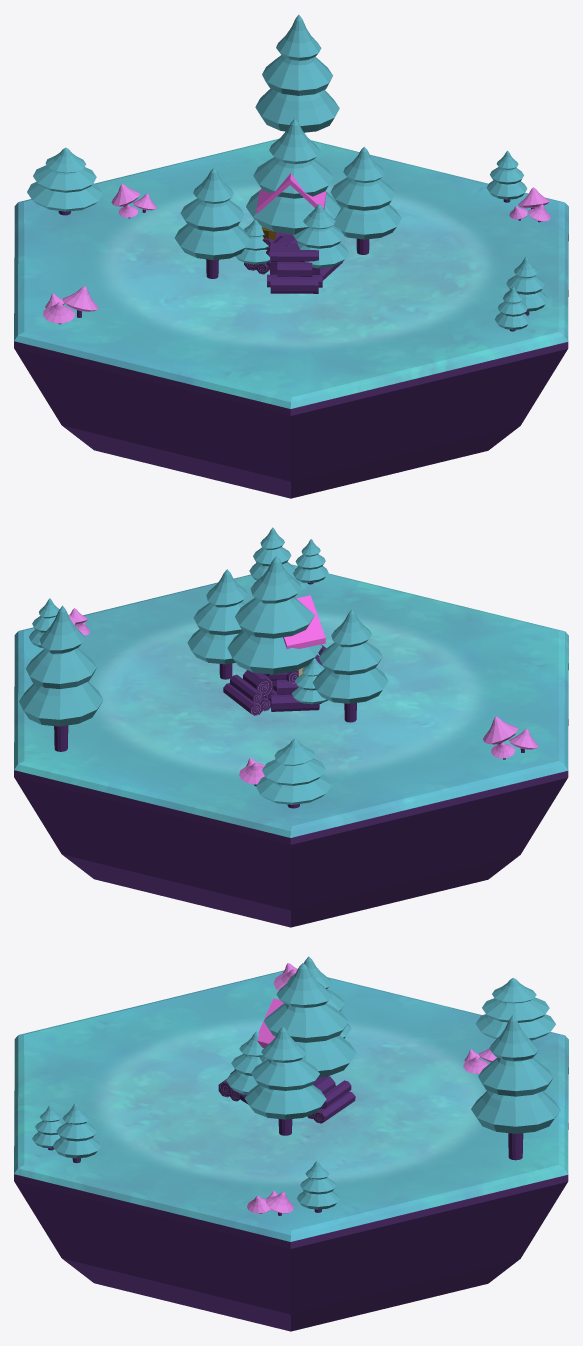
Rendered from Asset_Biome_Forest_01.fbx.
The picture shows the model from 3 angles, top to bottom: view 1: azimuth 30°, elevation 25°; view 2: azimuth 150°, elevation 25°; view 3: azimuth 270°, elevation 25°; orthographic projection.
Parts seen in each view (by area): view 1: Asset_Tile_Forest, PolySurface_TreeForest_014, PolySurface_TreeForest_02, PolySurface_TreeForest_03, PolySurface_TreeForest_06, PolySurface_TreeForest_04, PolySurface_TreeForest_05, PolySurface_TreeForest_07, PolySurface_TreeForest_09, PolySurface_MushroomForest_02, PolySurface_TreeForest_08, PolySurface_TreeForest_01 (+4 smaller); view 2: Asset_Tile_Forest, PolySurface_TreeForest_014, PolySurface_TreeForest_02, PolySurface_TreeForest_03, PolySurface_TreeForest_06, PolySurface_TreeForest_04, PolySurface_MushroomForest_02, PolySurface_TreeForest_09, structure_puit1, PolySurface_TreeForest_08, PolySurface_TreeForest_01, PolySurface_TreeForest_07 (+2 smaller); view 3: Asset_Tile_Forest, PolySurface_TreeForest_014, PolySurface_TreeForest_02, PolySurface_TreeForest_06, PolySurface_TreeForest_04, PolySurface_TreeForest_09, PolySurface_TreeForest_07, PolySurface_TreeForest_05, PolySurface_TreeForest_08, PolySurface_MushroomForest_03, PolySurface_TreeForest_03, pCylinder14 (+1 smaller).
Part boxes in pixels (bbox=[...]): Asset_Tile_Forest: bbox=[14, 139, 568, 498]; PolySurface_TreeForest_014: bbox=[255, 14, 339, 132]; PolySurface_TreeForest_02: bbox=[246, 119, 340, 234]; PolySurface_TreeForest_03: bbox=[174, 168, 250, 278]; PolySurface_TreeForest_06: bbox=[330, 146, 401, 254]; PolySurface_TreeForest_04: bbox=[27, 147, 102, 215]; PolySurface_TreeForest_05: bbox=[292, 204, 348, 268]; PolySurface_TreeForest_07: bbox=[486, 150, 527, 202]; PolySurface_TreeForest_09: bbox=[502, 257, 548, 315]; PolySurface_MushroomForest_02: bbox=[43, 286, 98, 324]; PolySurface_TreeForest_08: bbox=[494, 287, 530, 331]; PolySurface_TreeForest_01: bbox=[235, 219, 269, 269]; Asset_Tile_Forest: bbox=[14, 564, 568, 927]; PolySurface_TreeForest_014: bbox=[19, 605, 103, 751]; PolySurface_TreeForest_02: bbox=[227, 556, 322, 676]; PolySurface_TreeForest_03: bbox=[312, 609, 388, 722]; PolySurface_TreeForest_06: bbox=[187, 569, 247, 679]; PolySurface_TreeForest_04: bbox=[256, 739, 331, 808]; PolySurface_MushroomForest_02: bbox=[483, 716, 538, 759]; PolySurface_TreeForest_09: bbox=[249, 527, 294, 580]; structure_puit1: bbox=[283, 595, 325, 683]; PolySurface_TreeForest_08: bbox=[293, 539, 328, 584]; PolySurface_TreeForest_01: bbox=[291, 658, 327, 704]; PolySurface_TreeForest_07: bbox=[29, 598, 59, 647]; Asset_Tile_Forest: bbox=[14, 970, 568, 1331]; PolySurface_TreeForest_014: bbox=[471, 1015, 560, 1160]; PolySurface_TreeForest_02: bbox=[259, 963, 356, 1077]; PolySurface_TreeForest_06: bbox=[244, 1027, 326, 1135]; PolySurface_TreeForest_04: bbox=[475, 978, 555, 1040]; PolySurface_TreeForest_09: bbox=[53, 1103, 100, 1163]; PolySurface_TreeForest_07: bbox=[297, 1161, 339, 1212]; PolySurface_TreeForest_05: bbox=[226, 1031, 263, 1094]; PolySurface_TreeForest_08: bbox=[32, 1105, 64, 1150]; PolySurface_MushroomForest_03: bbox=[247, 1191, 293, 1215]; PolySurface_TreeForest_03: bbox=[287, 956, 351, 1038]; pCylinder14: bbox=[313, 1091, 355, 1123].
Size of the model in its own units: 436 by 218 by 378.
